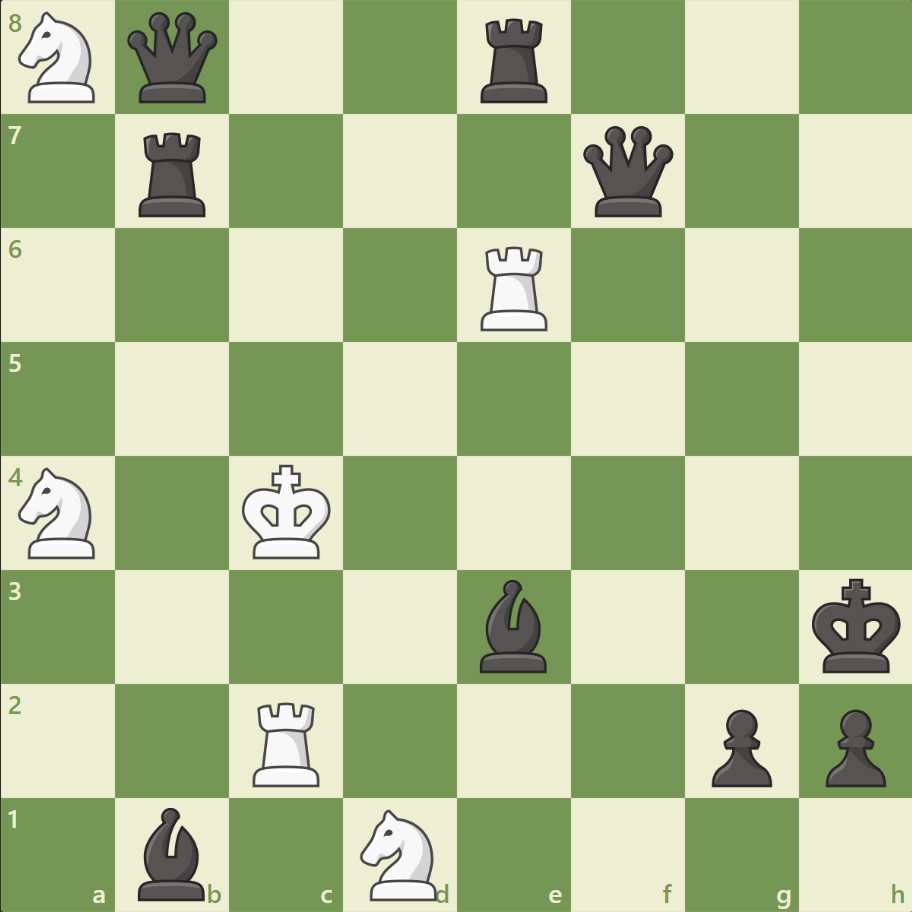K: (238, 458, 338, 566)
N: (351, 802, 449, 904), (11, 7, 108, 110), (11, 461, 108, 564)
R: (473, 239, 556, 336), (246, 693, 329, 790)
b: (131, 801, 215, 904), (471, 574, 555, 676)
k: (806, 571, 906, 679)
p: (701, 700, 776, 791), (815, 700, 889, 791)
q: (578, 122, 677, 222), (124, 9, 223, 108)
r: (473, 12, 556, 109), (133, 125, 215, 222)
